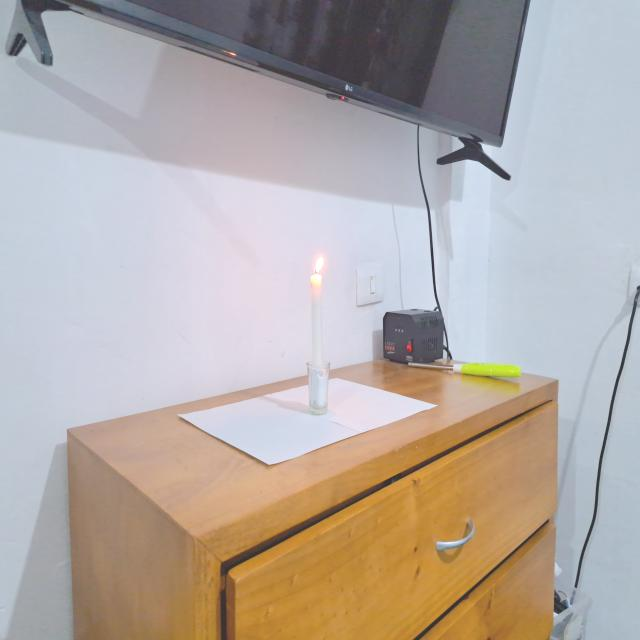candle: (303, 248, 336, 419)
